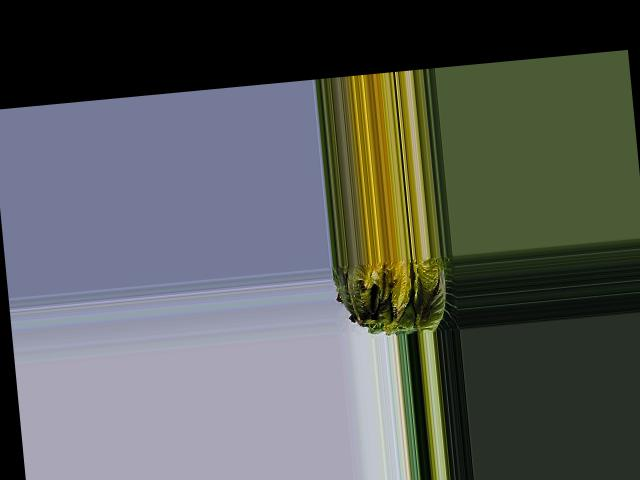lettuce: (336, 254, 459, 337)
